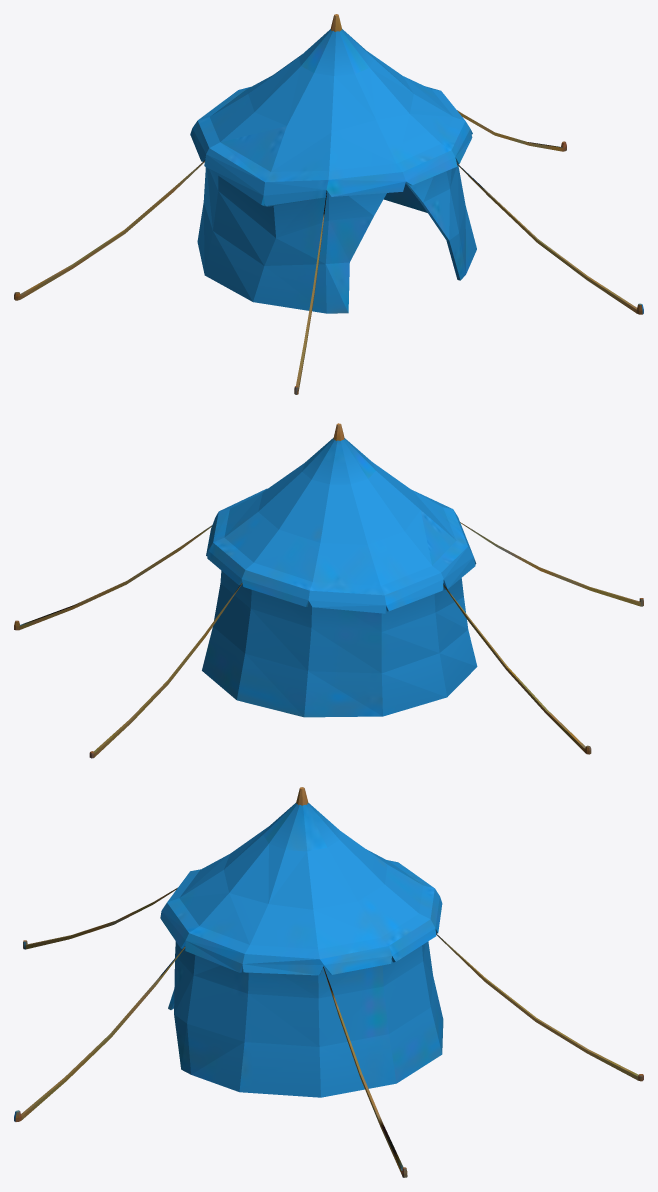
The model's file is tent_round.glb.
3 views of the same model, one above another, from view 1: azimuth 30°, elevation 25°; view 2: azimuth 150°, elevation 25°; view 3: azimuth 270°, elevation 25° (orthographic). The views are drawn at different scales.
Visible parts, largest first — view 1: tent_round; view 2: tent_round; view 3: tent_round.
Part boxes in pixels (left/top/right/bottom): tent_round: left=14, top=14, right=643, bottom=394; tent_round: left=14, top=423, right=643, bottom=758; tent_round: left=14, top=787, right=643, bottom=1177.
Bounding box in the file's own units: 5.1 × 2.05 × 4.72.
Materials: 1 (1 with a texture image).
